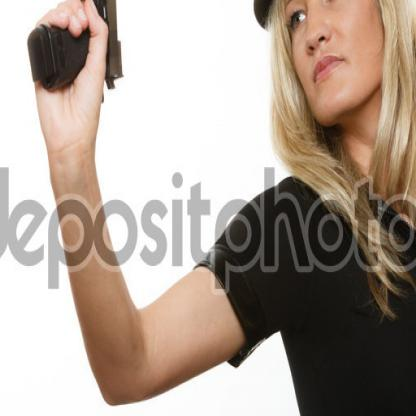gun: (13, 0, 129, 104)
